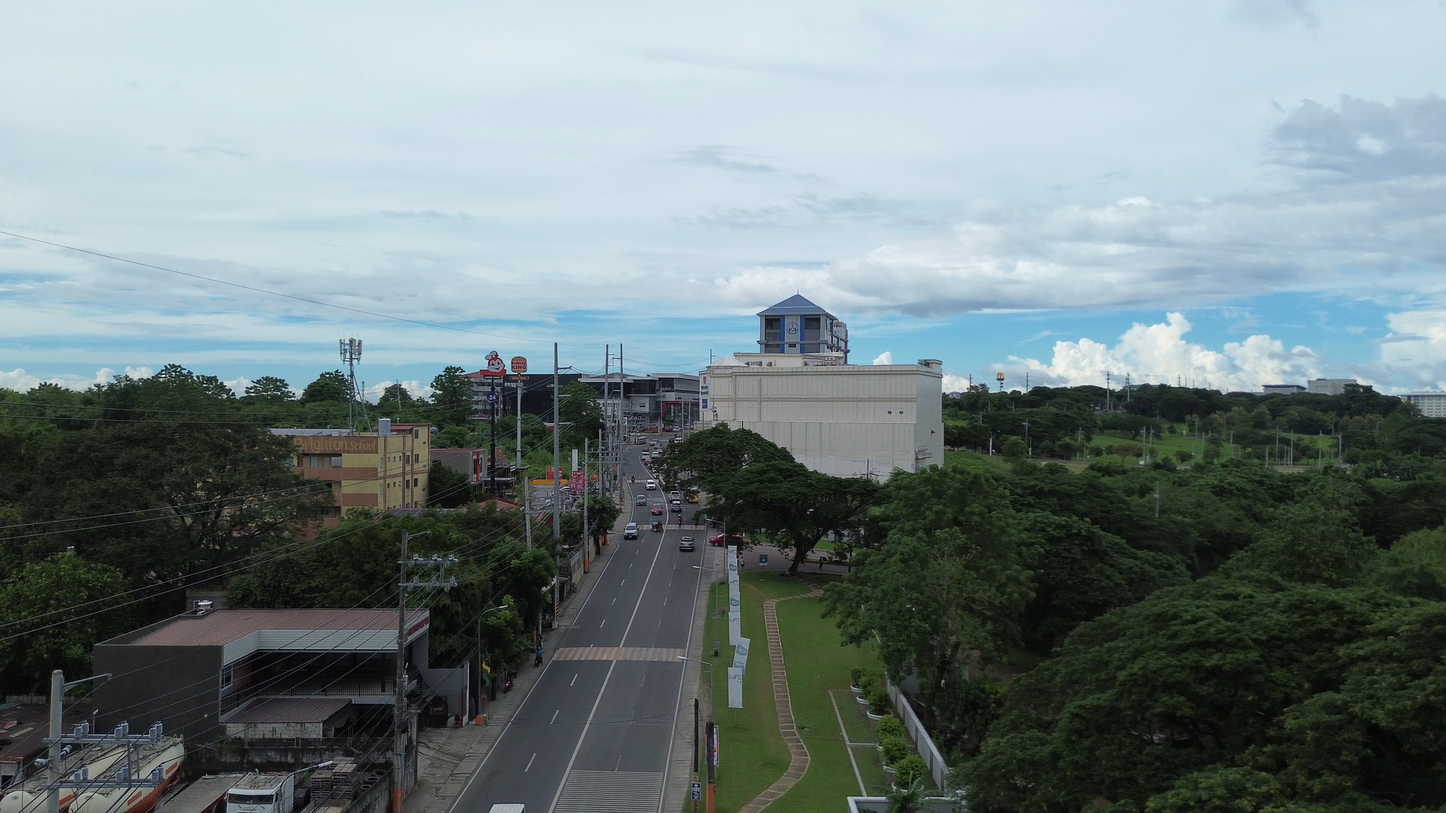car: (679, 536, 694, 552), (651, 505, 664, 516), (635, 495, 647, 506), (645, 480, 657, 490)
vehicle: (226, 773, 294, 813), (709, 534, 743, 546), (488, 804, 525, 813), (623, 522, 638, 539), (685, 489, 700, 503), (670, 501, 682, 512), (650, 521, 663, 531), (670, 490, 681, 498)
